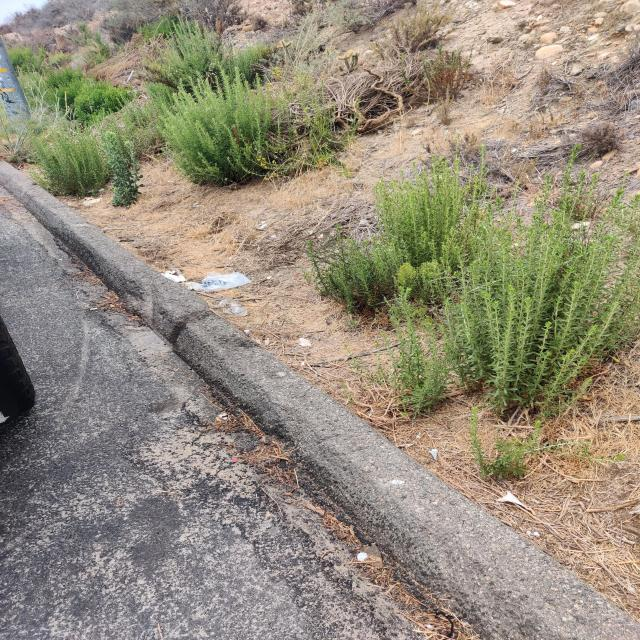litter: (183, 269, 254, 294), (215, 297, 251, 317), (159, 265, 190, 284), (159, 265, 190, 283), (428, 446, 441, 463), (355, 551, 371, 563)
